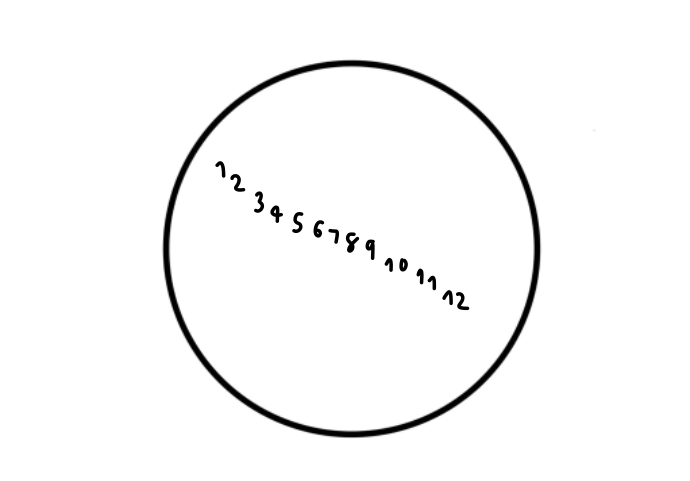eight: (343, 229, 360, 255)
eleven: (410, 267, 438, 291)
five: (288, 206, 308, 240)
four: (268, 203, 284, 224)
nine: (363, 234, 379, 263)
one: (215, 156, 228, 180)
seven: (326, 222, 340, 245)
six: (310, 216, 326, 242)
ten: (383, 254, 407, 275)
three: (251, 189, 267, 214)
twelve: (439, 287, 473, 312)
two: (230, 171, 247, 195)
